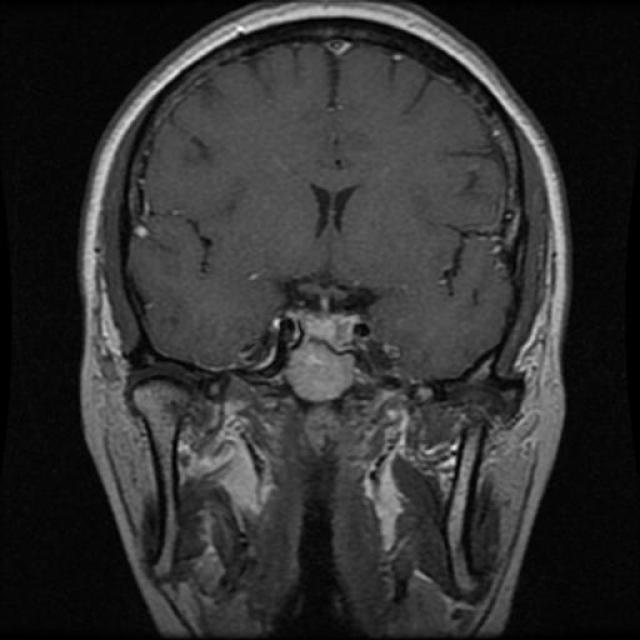Pituitary: (285, 342, 356, 402), (298, 308, 358, 352)
